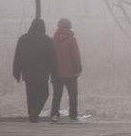person: (11, 18, 56, 122), (49, 18, 84, 120)
